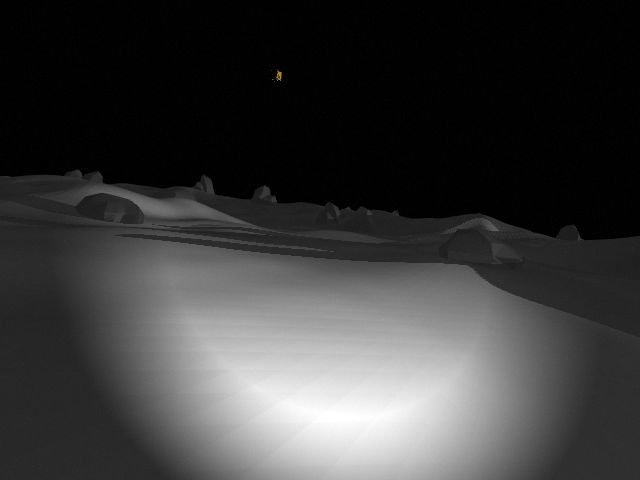cubesat: (267, 67, 284, 83)
